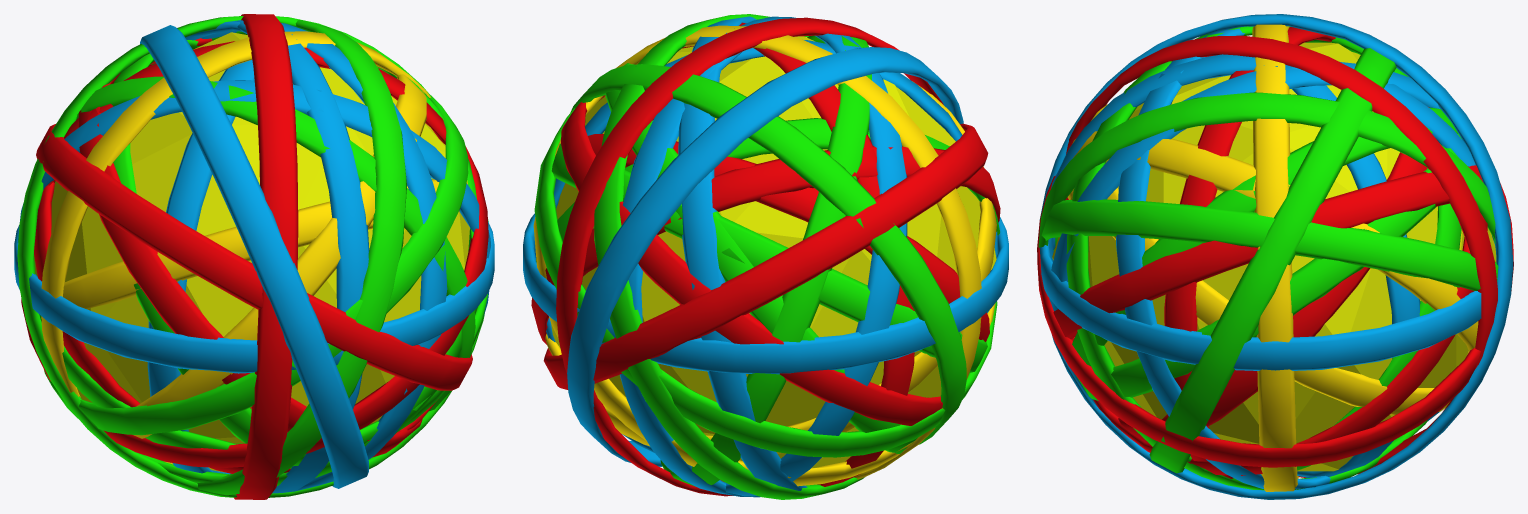
File: rubberball.fbx
3 views of the same model, side by side, from view 1: azimuth 30°, elevation 25°; view 2: azimuth 150°, elevation 25°; view 3: azimuth 270°, elevation 25° (orthographic). The views are drawn at different scales.
Visible parts, largest first — view 1: rubberball; view 2: rubberball; view 3: rubberball.
Part boxes in pixels (left/top/right/bottom): rubberball: left=14, top=14, right=494, bottom=499; rubberball: left=523, top=14, right=1008, bottom=499; rubberball: left=1037, top=14, right=1513, bottom=499.
Size of the model in its own units: 84.61 by 85.83 by 85.39.
